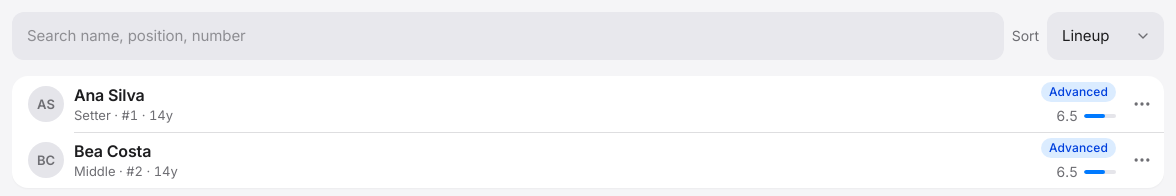
TeamRosterTable › filters the roster by a case-insensitive search over name and position category
Type "mb" into the search field labelled "Search name, position, number" at coordinates (508, 36), box x1=12 y1=12 x2=1004 y2=60
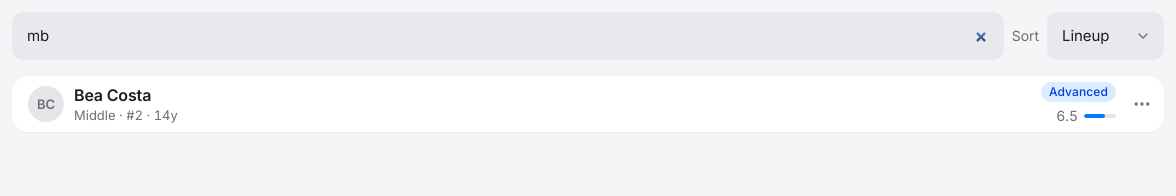
Expected: the text "Bea Costa" is shown, x1=74 y1=85 x2=151 y2=105
Result: no links "Ana Silva" are shown
